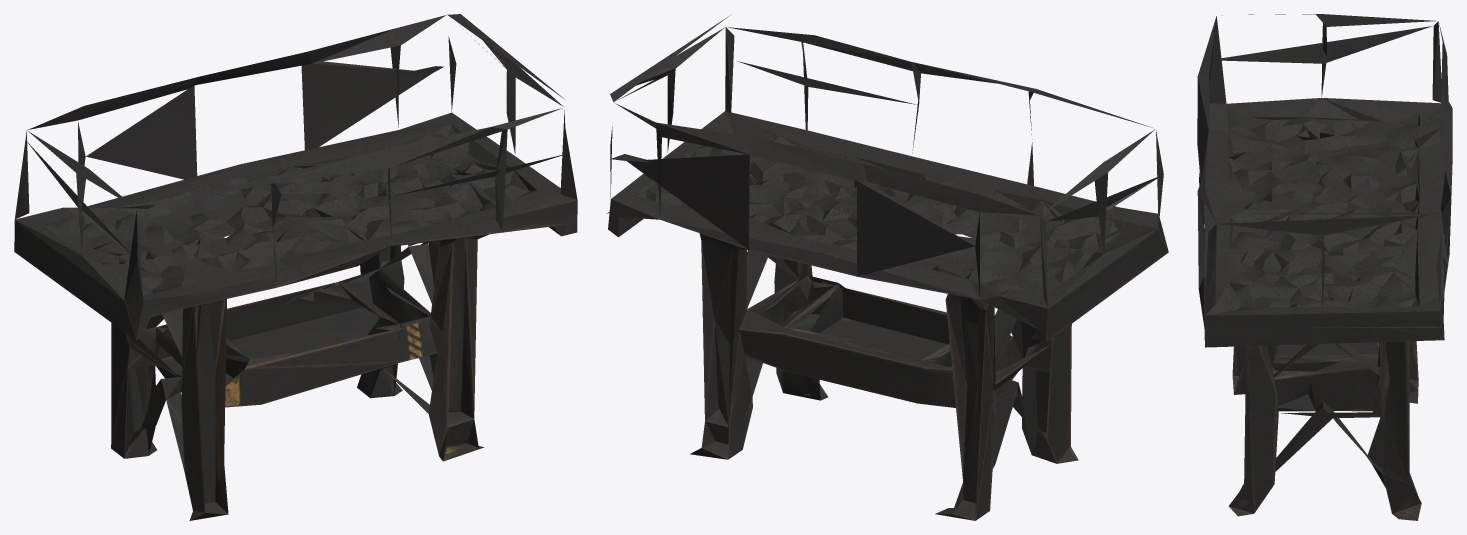
Rendered from catwalk.glb.
3 views of the same model, side by side, from view 1: azimuth 30°, elevation 25°; view 2: azimuth 150°, elevation 25°; view 3: azimuth 270°, elevation 25° (orthographic). The views are drawn at different scales.
Size of the model in its own units: 5.35 by 4 by 2.72.
1 material, 1 textured.
